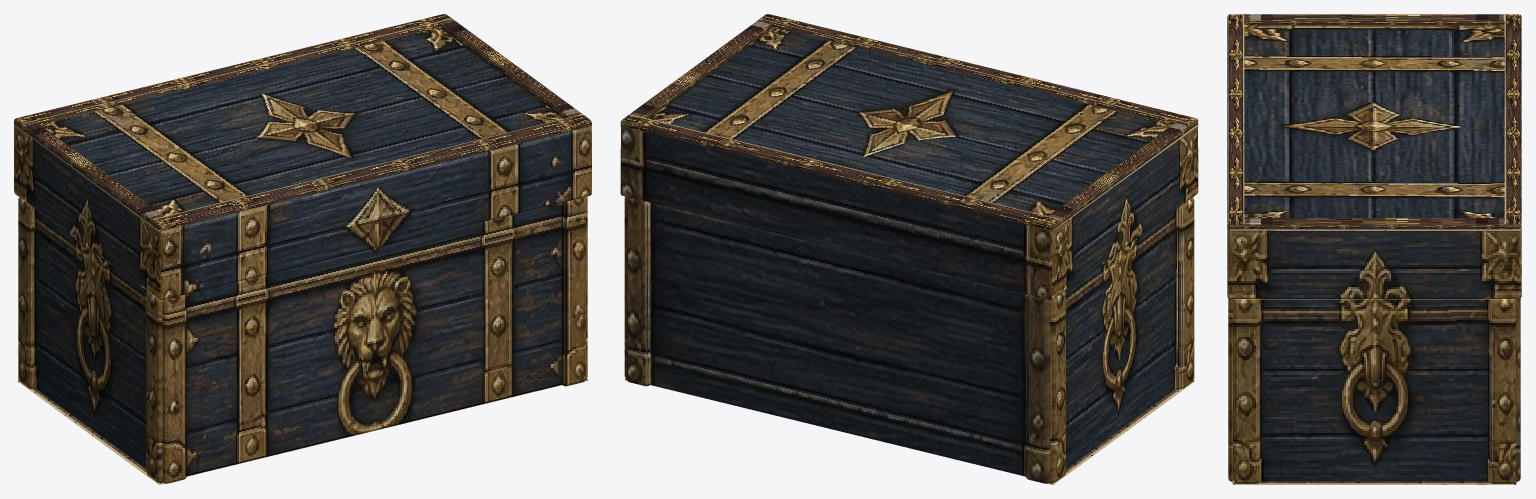
The model's file is chest_gilded_blue.glb.
The picture shows the model from 3 angles, left to right: view 1: azimuth 30°, elevation 25°; view 2: azimuth 150°, elevation 25°; view 3: azimuth 270°, elevation 25°; orthographic projection.
Visible parts, largest first — view 1: lid, body; view 2: lid, body; view 3: lid, body.
Part boxes in pixels (<box>): lid: <box>14,14,591,299</box>; body: <box>17,196,587,484</box>; lid: <box>620,14,1198,299</box>; body: <box>624,196,1194,484</box>; lid: <box>1227,14,1521,298</box>; body: <box>1228,298,1520,484</box>.
Bounding box in the file's own units: 1.03 × 0.592 × 0.604.
Materials: 1 (1 with a texture image).
